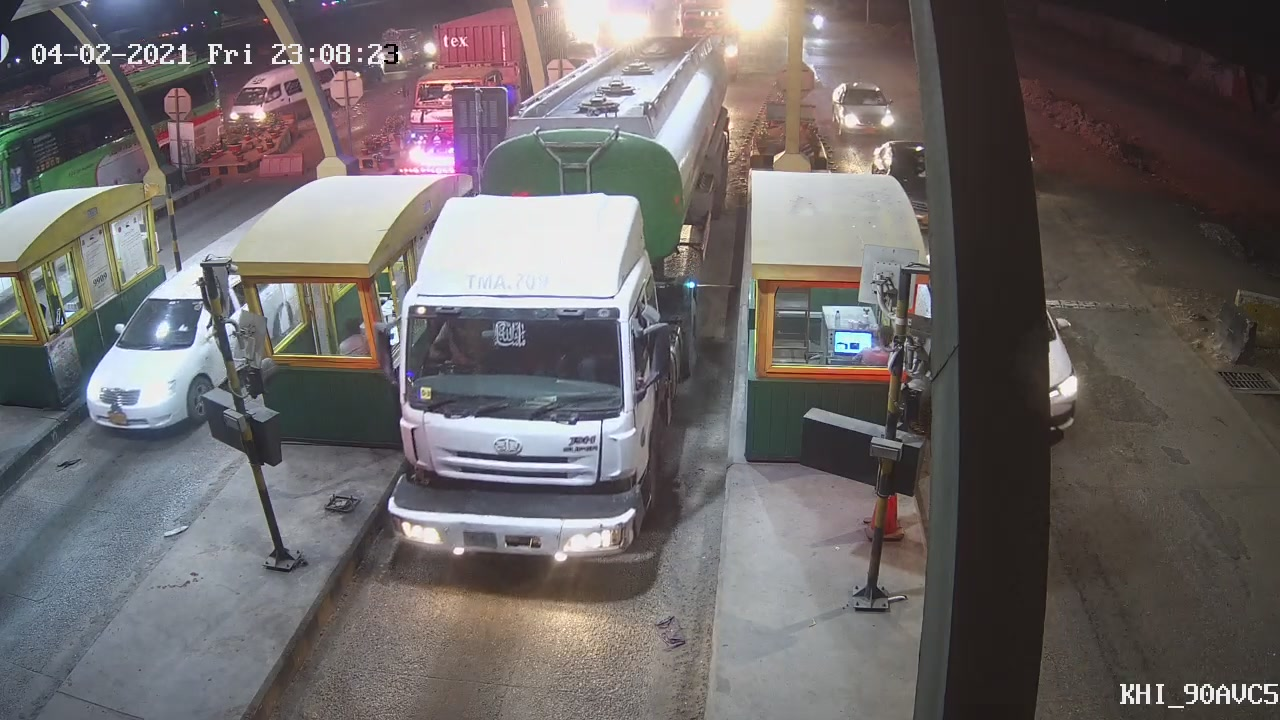F6: (383, 32, 731, 564)
